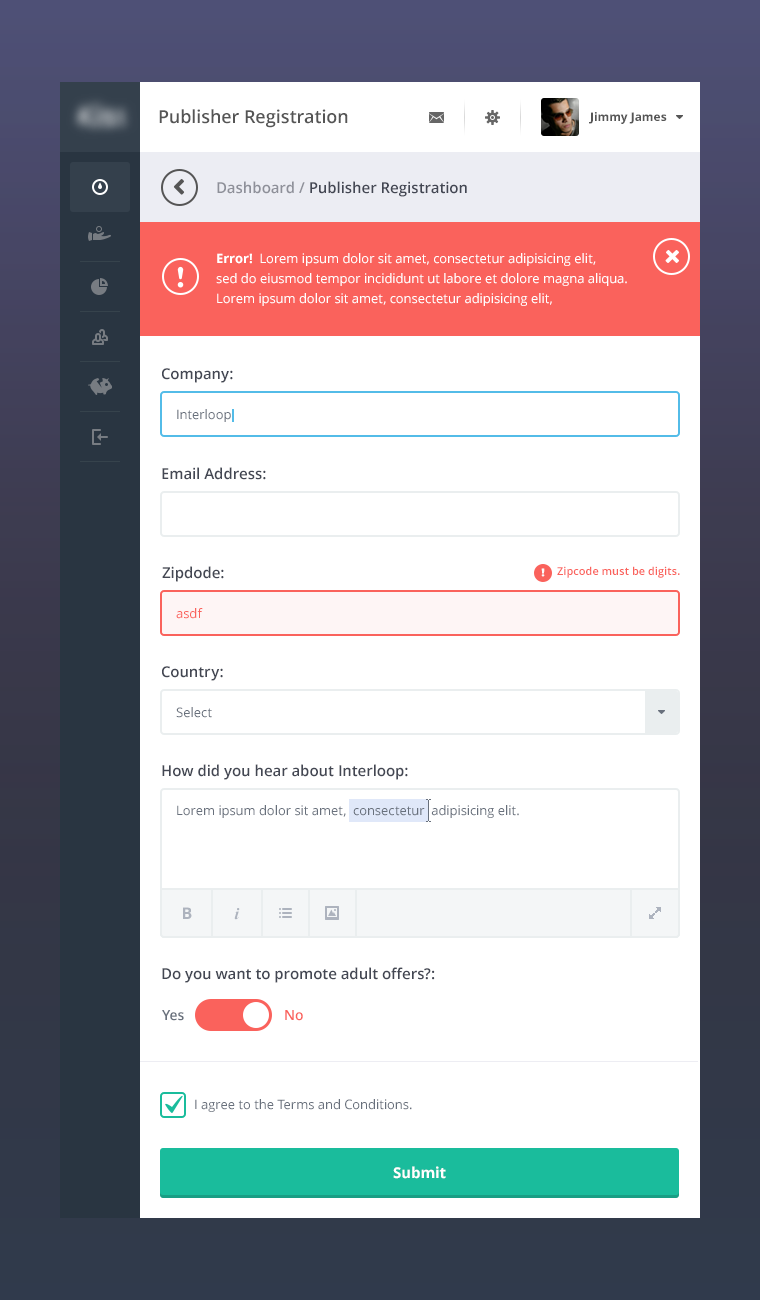error_field: (160, 590, 681, 637)
error_message: (214, 251, 633, 308), (555, 565, 680, 579)
